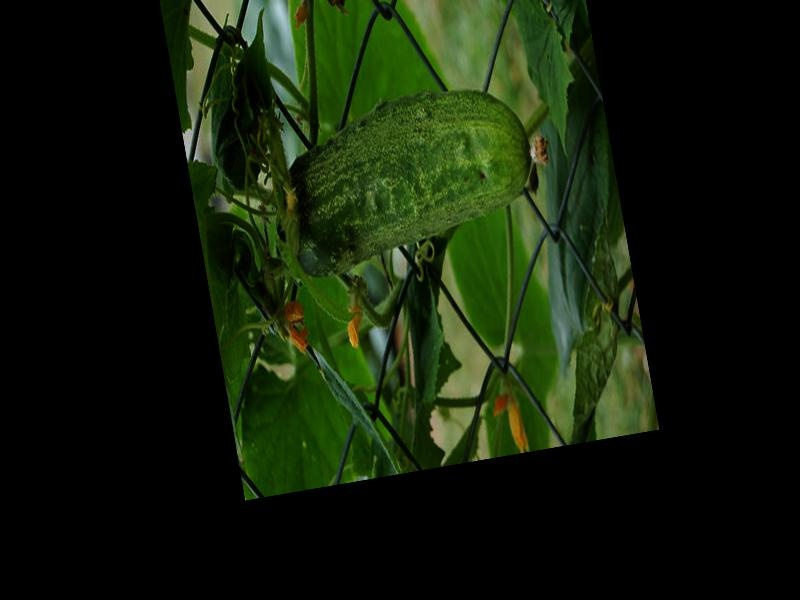Cucumber: (261, 95, 539, 278)
